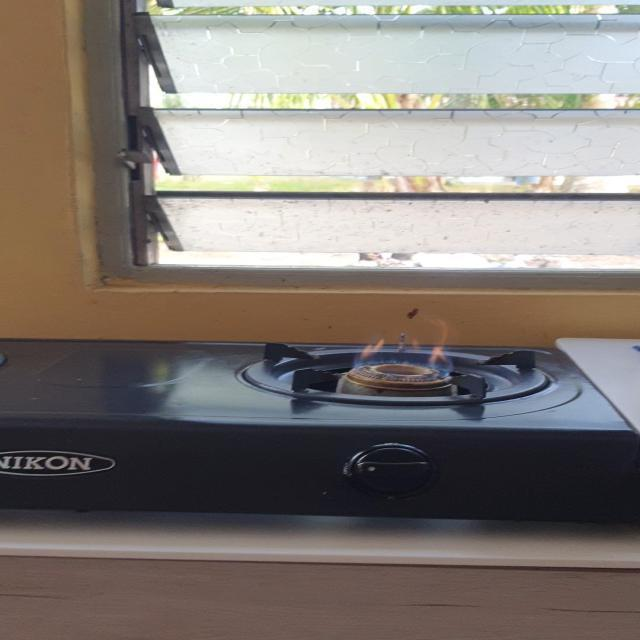Flame: (341, 323, 470, 387)
